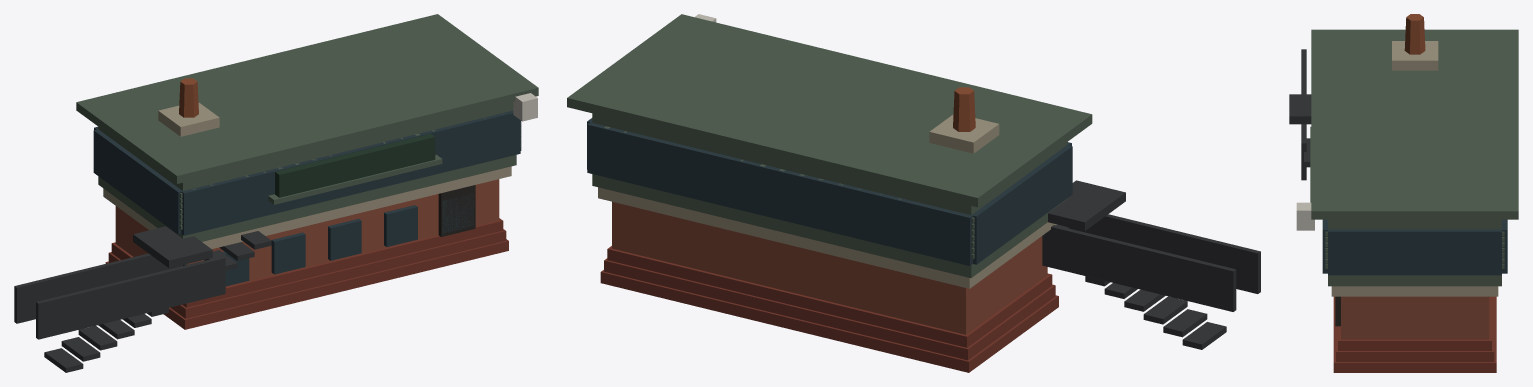
Rendered from signal_box.glb.
3 renders of one model, left to right at view 1: azimuth 30°, elevation 25°; view 2: azimuth 150°, elevation 25°; view 3: azimuth 270°, elevation 25°, orthographic. The views are drawn at different scales.
Parts seen in each view (by area): view 1: signal_box; view 2: signal_box; view 3: signal_box.
Boxes of the visible parts, bbox=[...] form: signal_box: bbox=[14, 14, 538, 372]; signal_box: bbox=[567, 14, 1260, 372]; signal_box: bbox=[1289, 14, 1518, 372].
Bounding box in the file's own units: 16.2 × 6.4 × 6.2.
